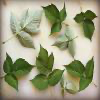Raspberry leaf: (19, 6, 44, 34), (34, 43, 55, 75), (12, 57, 36, 76), (63, 59, 86, 77), (48, 68, 66, 88), (29, 73, 49, 91), (41, 4, 60, 22), (18, 30, 35, 50), (82, 18, 95, 43), (52, 34, 69, 52), (77, 76, 93, 94), (4, 73, 19, 92), (10, 11, 21, 36), (84, 55, 95, 80), (48, 20, 63, 37), (3, 52, 13, 73), (59, 0, 68, 21), (83, 8, 98, 20), (73, 11, 86, 24), (66, 82, 79, 94), (65, 24, 75, 39), (68, 40, 76, 58), (61, 74, 67, 88), (62, 87, 66, 99)
